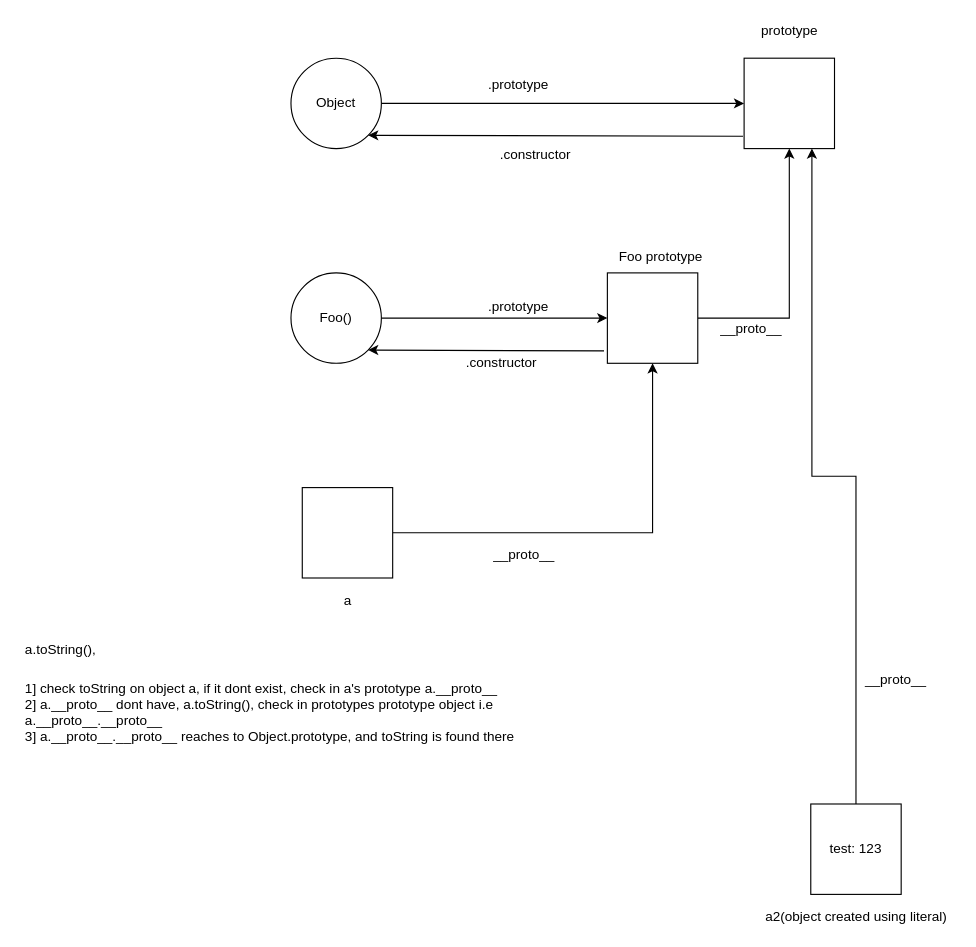
Image size: 976x947. Some labels were removed from this diagram. The centre of each missing label's shape, as x and y in pixels:
me: a1: [347,532]
toString() valueOf() values(): [789,103]
